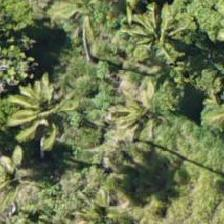coconut_tree: (0, 67, 90, 157), (111, 0, 201, 79), (0, 132, 53, 222)
